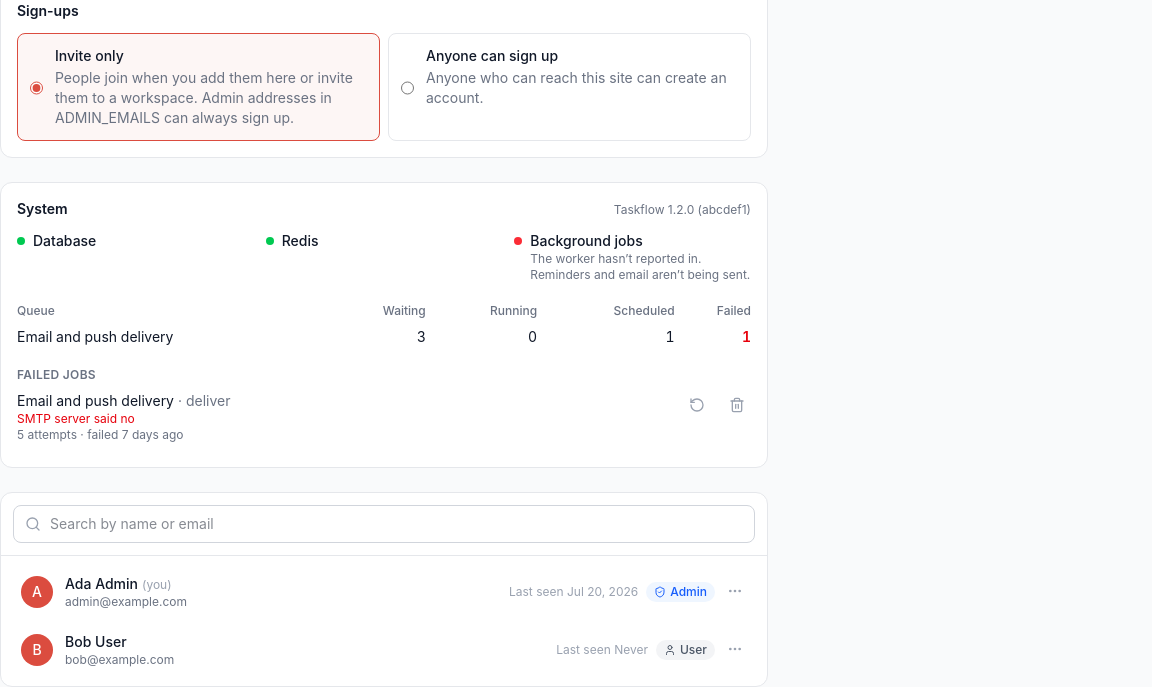
Scenario: user actions › surfaces a refused delete as an error and keeps the user listed
(page scrolled)
Expected: the text "Bob User" is shown, [65, 633, 127, 650]
Click the button named "Actions for Bob User": [735, 649] box [723, 637, 747, 661]
(page scrolled)
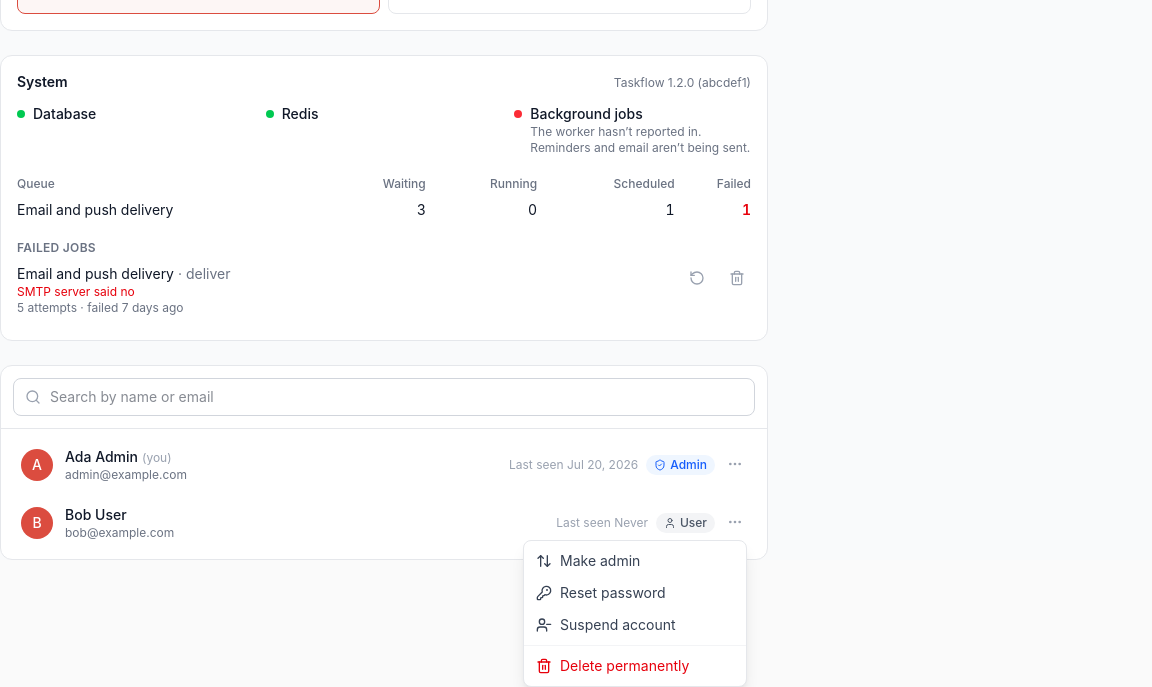
Click the button "Delete permanently": [635, 666] box [524, 650, 746, 682]
(page scrolled)
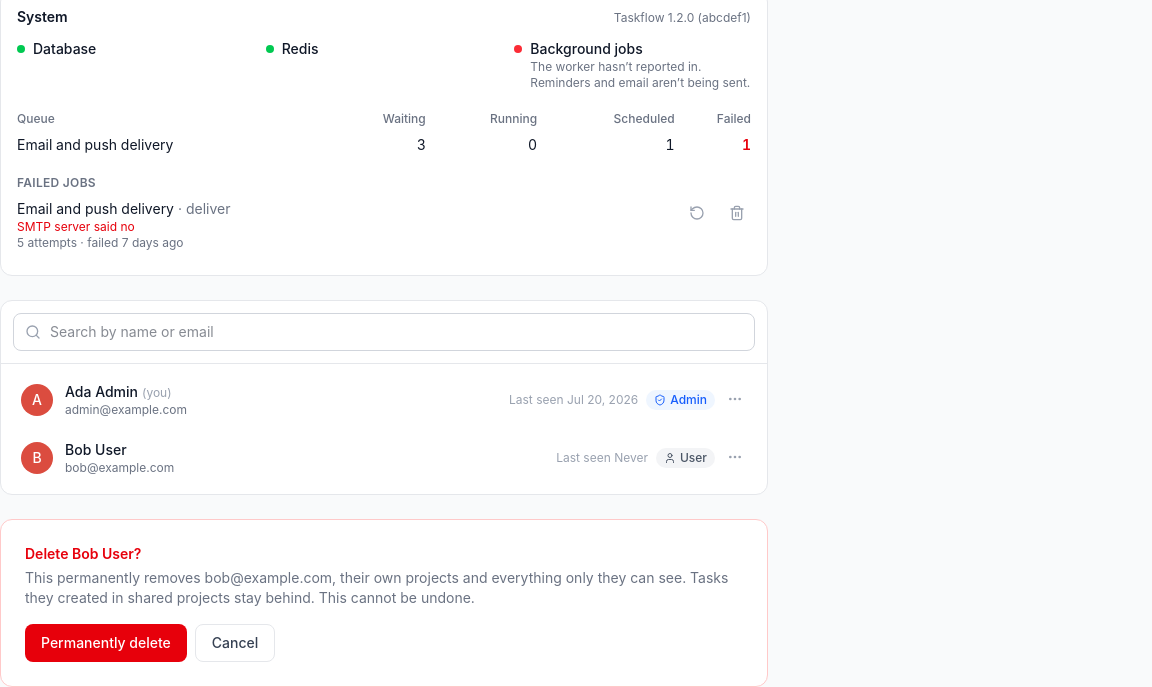
Result: the heading "Delete Bob User?" is shown at [25, 545, 141, 562]
Click the button "Permanently delete": [106, 643] box [25, 624, 187, 662]
(page scrolled)
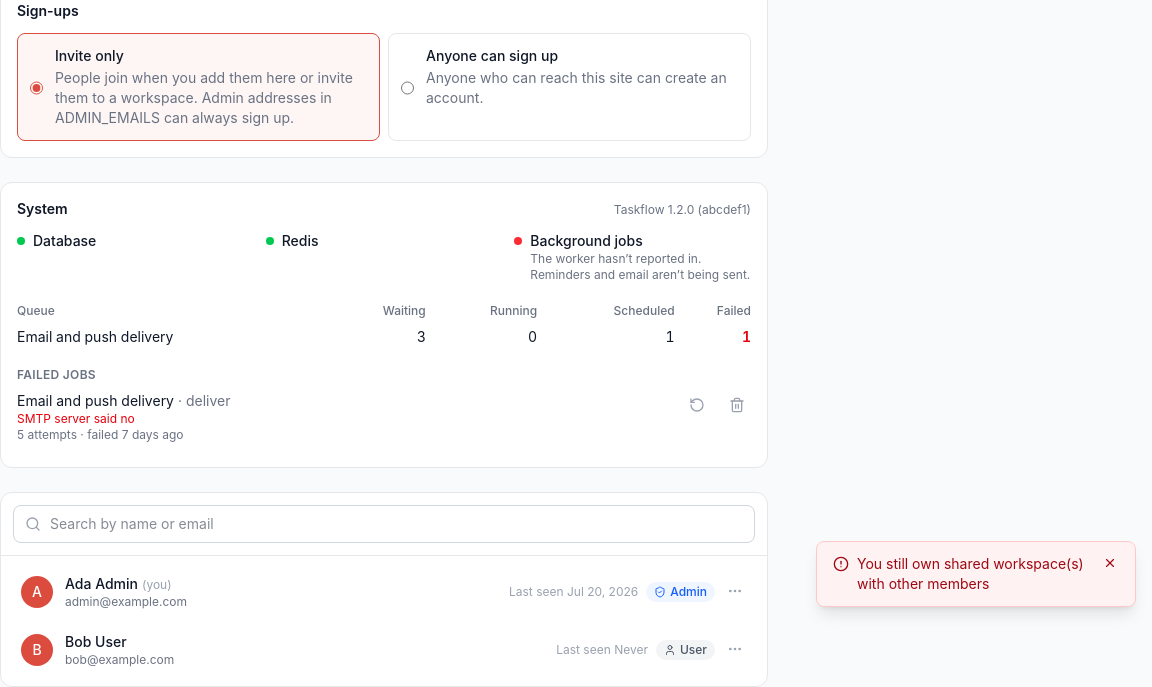
Expected: the text "bob@example.com" is shown, [65, 652, 174, 668]
Result: the text "You still own shared workspace(s) with other members" is shown at [857, 554, 1093, 594]
